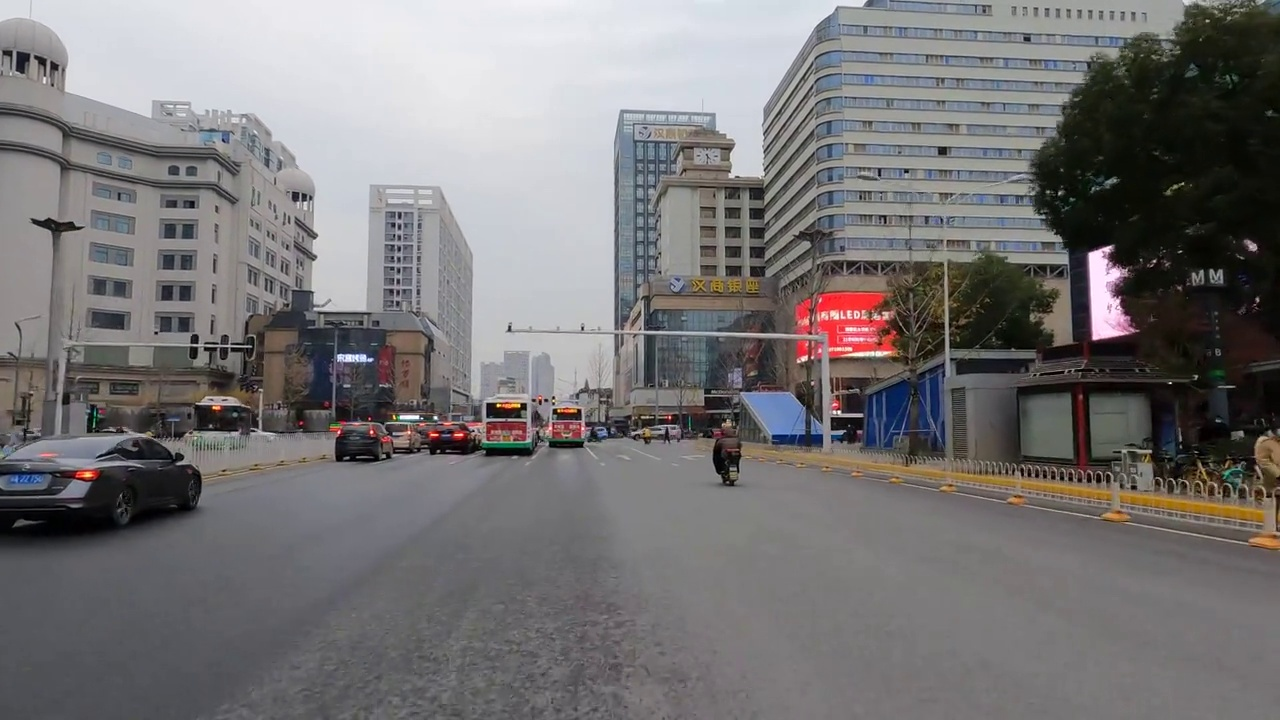lane: (979, 466, 1277, 523)
